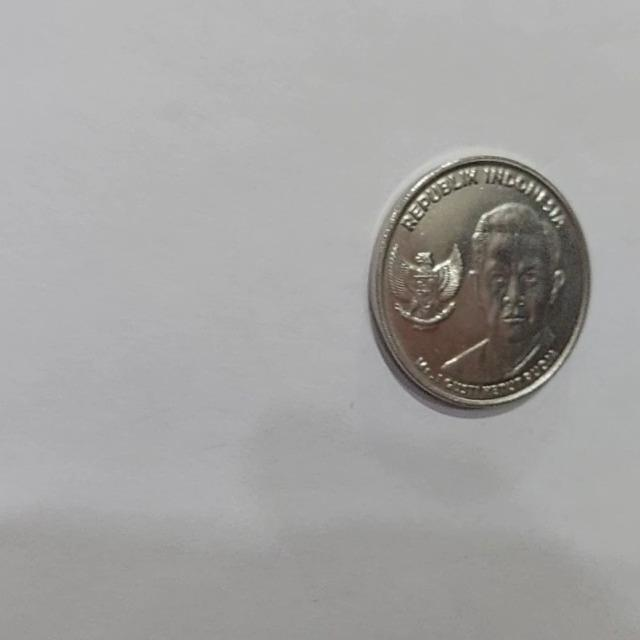Rp100: (368, 152, 592, 412)
